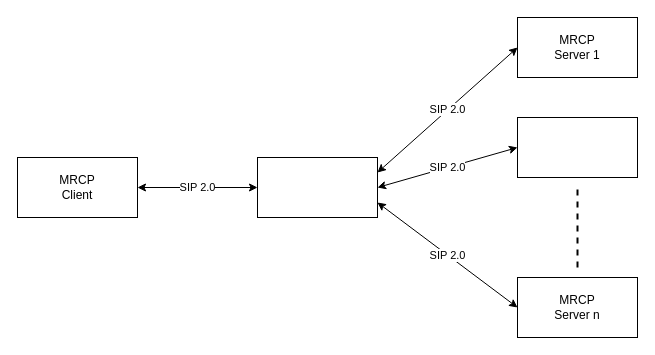
Some shapes in this 655 by 355 pixel diagram are drawn without their labels. The shapes that lost their labels are listed below. From the top down, each one's box as (x1, y1, x2, y2) in pixels, then its label:
(516, 116, 638, 178): MRCP Server 2
(256, 156, 378, 218): OpenSIPS Load Balancer
